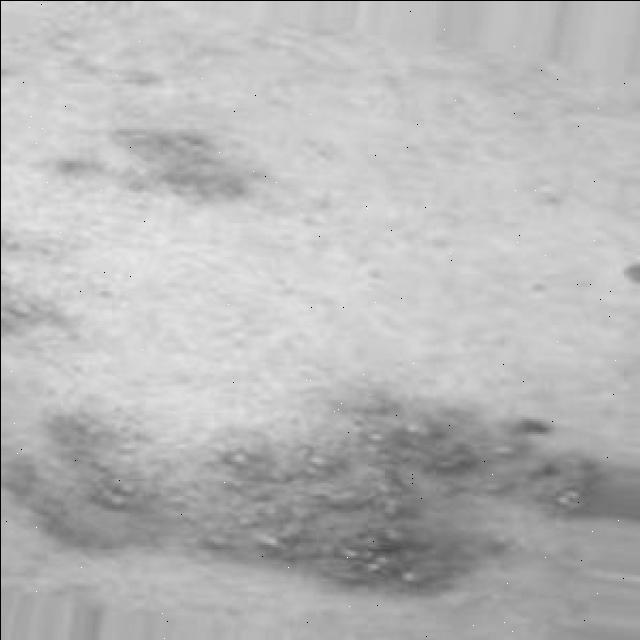Shingles: (27, 388, 588, 596), (54, 124, 244, 207)
